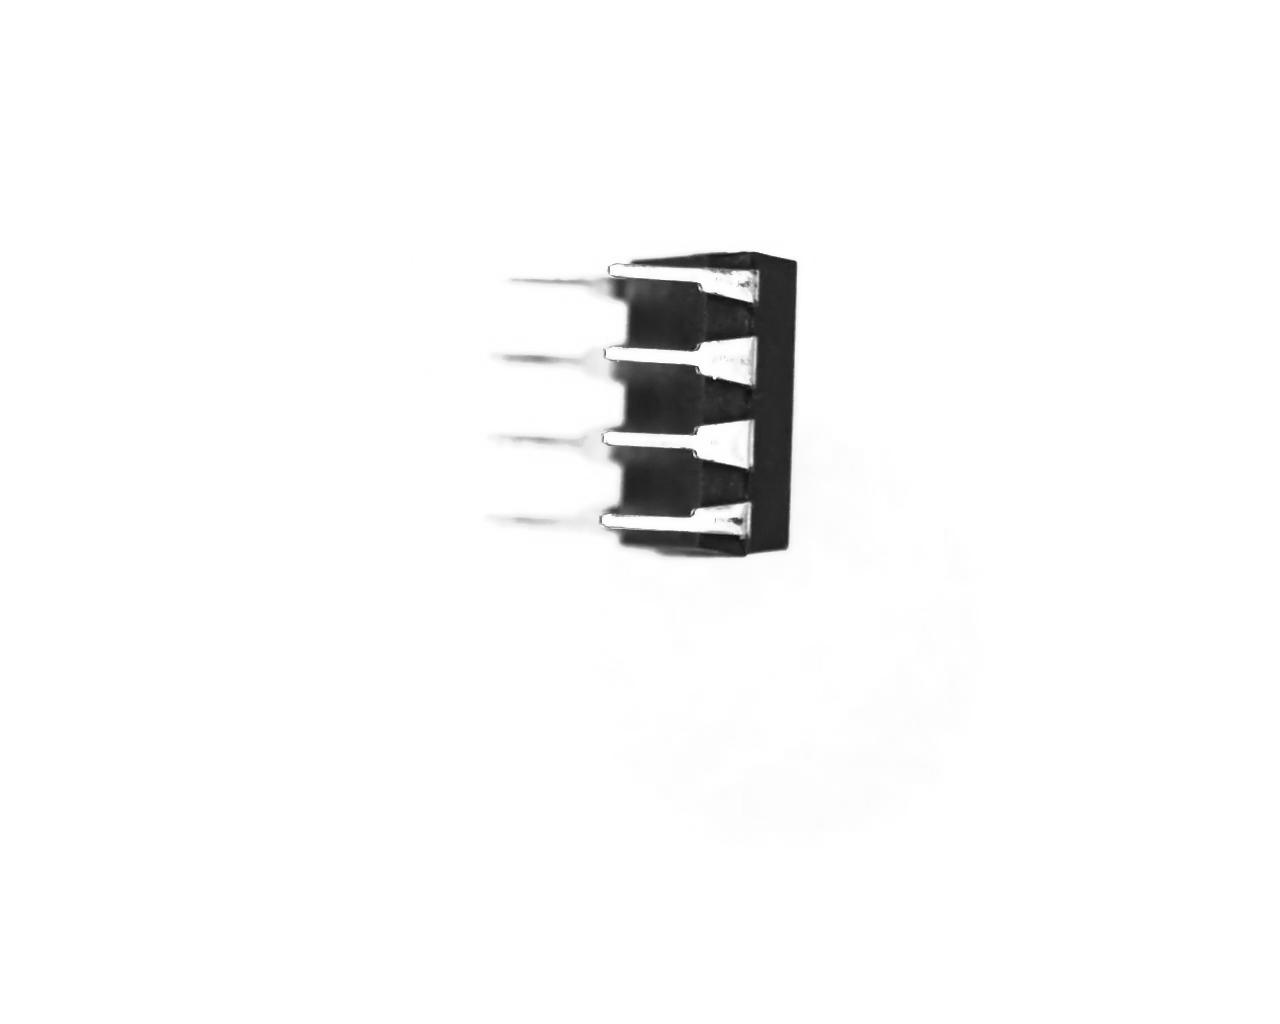Leg: (595, 330, 766, 400), (597, 419, 770, 482), (608, 241, 759, 310), (590, 501, 763, 548), (502, 267, 641, 315), (490, 420, 621, 466), (492, 344, 626, 388), (476, 507, 616, 540)
